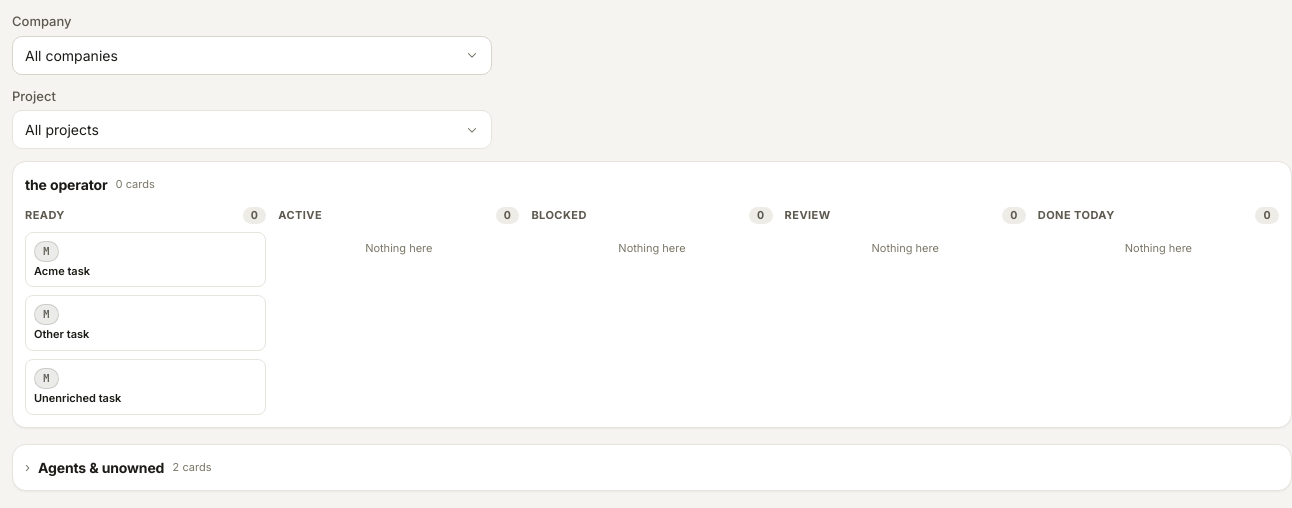
Scenario: TeamBoard company filter › hides enriched cards that do not match the selected company but keeps unenriched cards
Expected: the text "Acme task" is shown, [34, 264, 90, 278]
Expected: the text "Other task" is shown, [34, 327, 89, 341]
Click the button with aria-label "Company".
click(71, 55)  # box [12, 36, 492, 74]
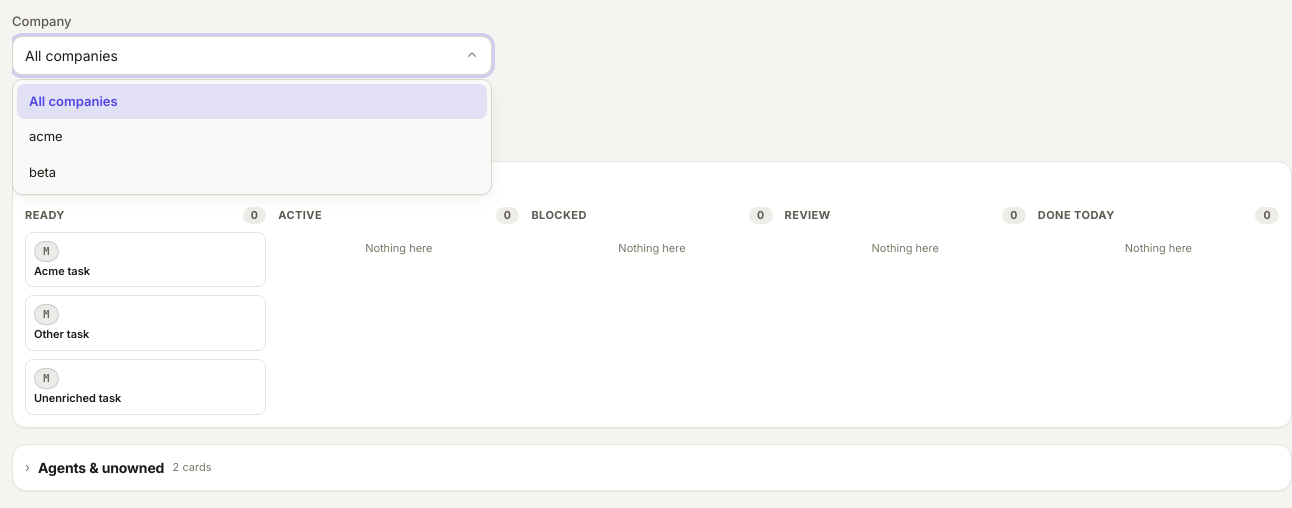
Click the option "acme".
click(46, 136)  # box [29, 128, 63, 144]
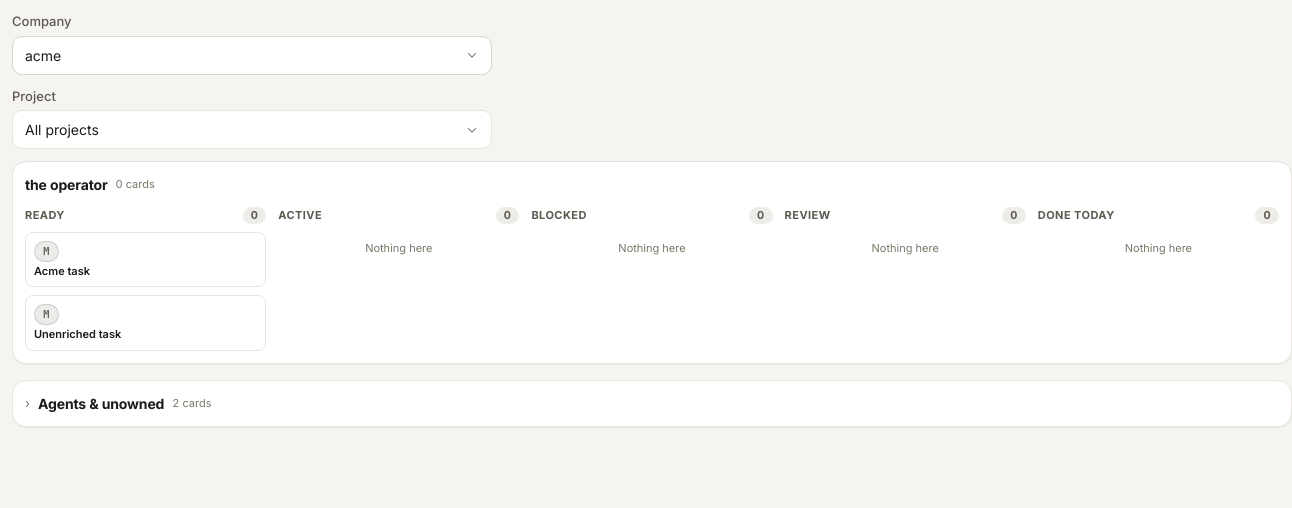
Expected: the text "Acme task" is shown, [34, 264, 90, 278]
Now the button "Other task" is gone
